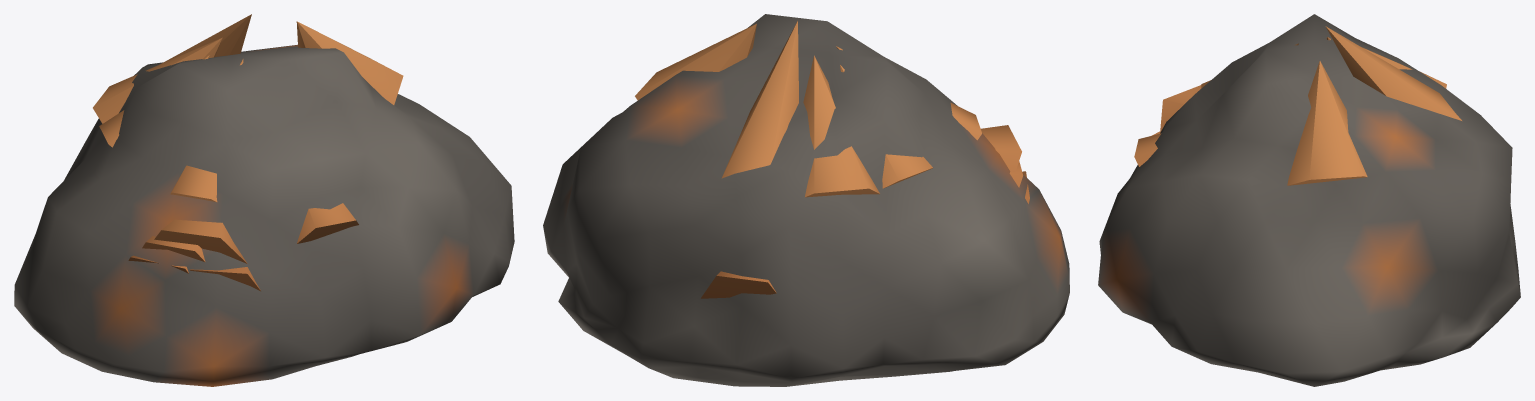
File: mena_cobre.glb
3 views of the same model, side by side, from view 1: azimuth 30°, elevation 25°; view 2: azimuth 150°, elevation 25°; view 3: azimuth 270°, elevation 25° (orthographic). The views are drawn at different scales.
Visible parts, largest first — view 1: mena_cobre_malla; view 2: mena_cobre_malla; view 3: mena_cobre_malla.
Boxes of the visible parts, x1,y1,x2,y2 form: mena_cobre_malla: (14,14,514,386); mena_cobre_malla: (543,14,1069,386); mena_cobre_malla: (1098,14,1520,386).
Size of the model in its own units: 0.6674 by 0.414 by 0.5529.
